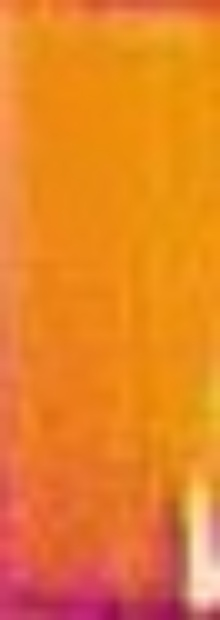Diode: (172, 474, 220, 607)
